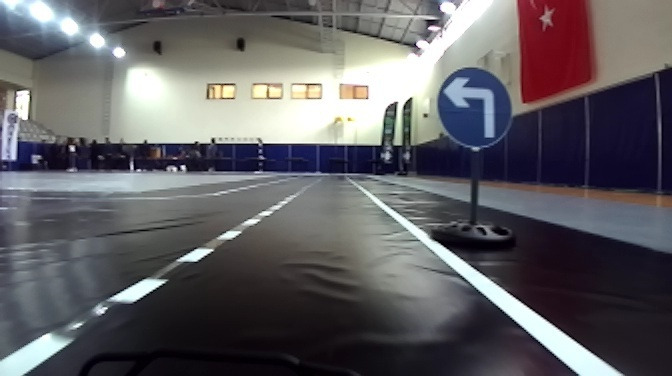sola_donus: (436, 66, 513, 147)
